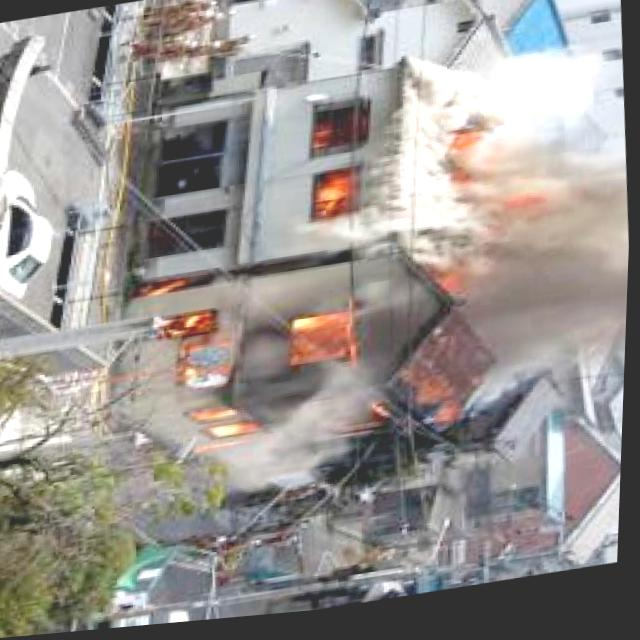helmet: (123, 243, 466, 473), (308, 169, 370, 229)
no_helmet: (386, 38, 638, 408)
